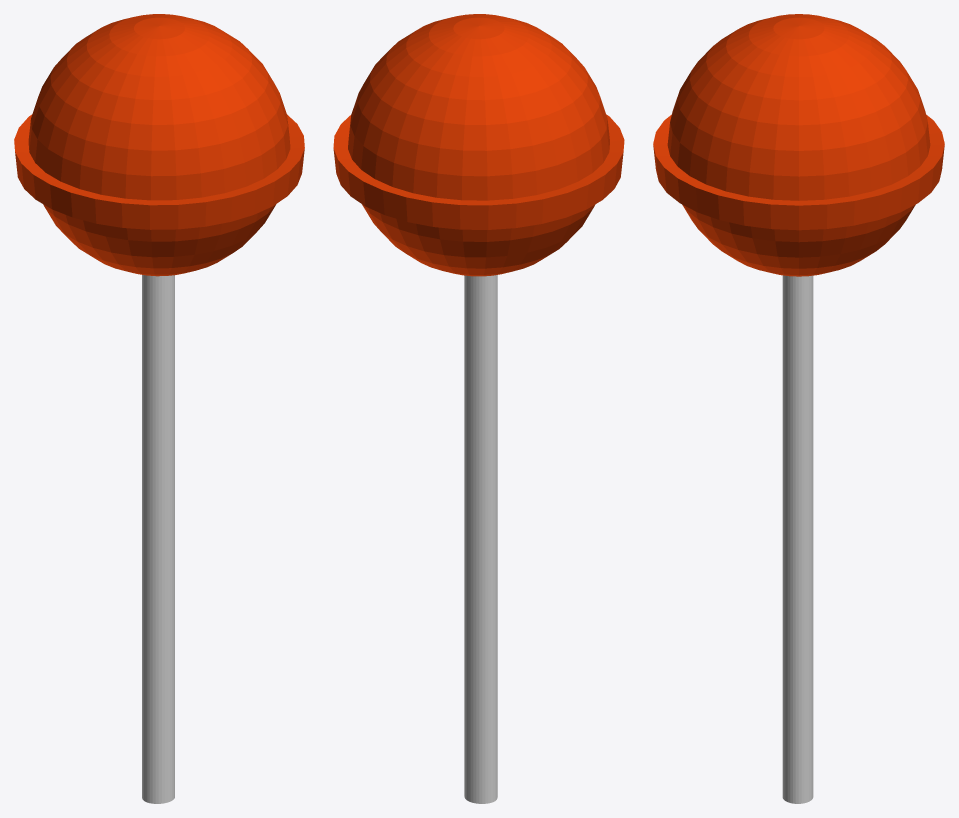
The model's file is marshPop3.fbx.
3 views of the same model, side by side, from view 1: azimuth 30°, elevation 25°; view 2: azimuth 150°, elevation 25°; view 3: azimuth 270°, elevation 25° (orthographic).
Parts seen in each view (by area): view 1: Circle; view 2: Circle; view 3: Circle.
Part boxes in pixels (x1,y1,x2,y2): Circle: [14, 14, 304, 803]; Circle: [333, 14, 624, 803]; Circle: [653, 14, 944, 803].
Size of the model in its own units: 41.65 by 122 by 41.65.
